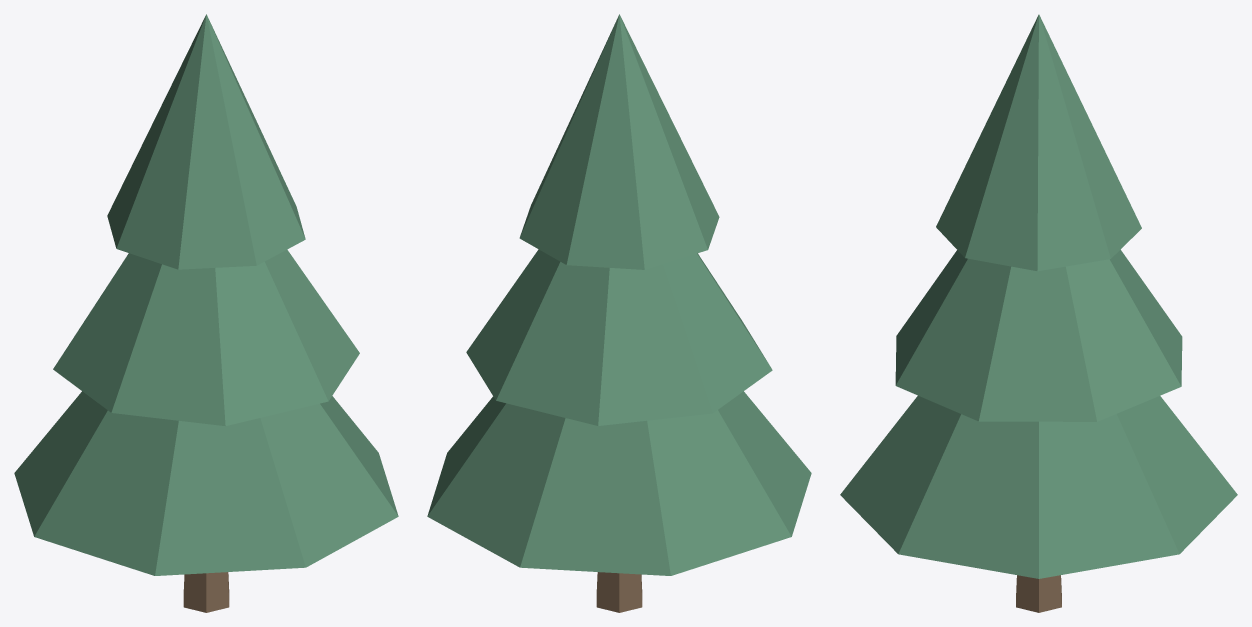
The model's file is pine.glb.
The picture shows the model from 3 angles, left to right: view 1: azimuth 30°, elevation 25°; view 2: azimuth 150°, elevation 25°; view 3: azimuth 270°, elevation 25°; orthographic projection.
Visible parts, largest first — view 1: pine; view 2: pine; view 3: pine.
Boxes of the visible parts, bbox=[...] form: pine: bbox=[14, 14, 398, 612]; pine: bbox=[427, 14, 811, 612]; pine: bbox=[840, 14, 1237, 612].
Size of the model in its own units: 2.7 by 4.4 by 2.7.
